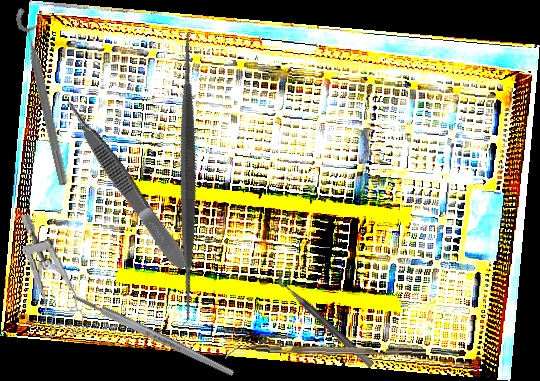Chopper: (225, 342, 426, 366)
Fixation Ring: (13, 3, 83, 187), (273, 266, 383, 369)
Scalpel Handle: (70, 291, 236, 379)
Spatula Surgical: (32, 22, 343, 332)
Speculum: (18, 210, 86, 340)
Tissue Forceps: (60, 94, 192, 275)
